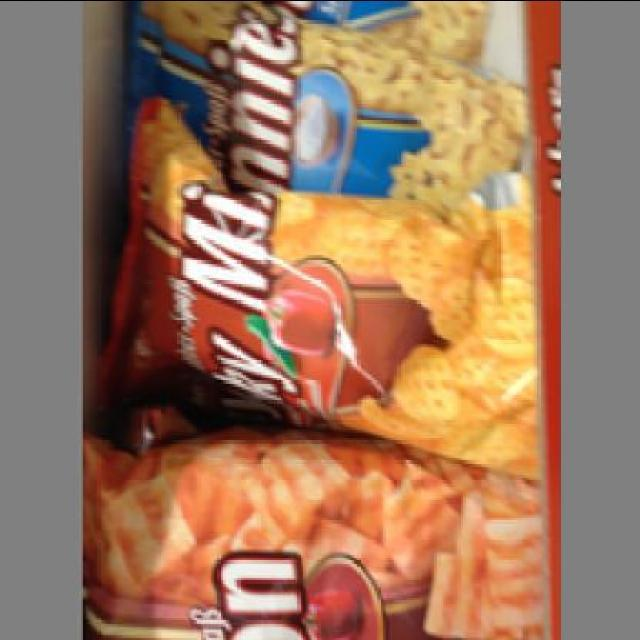Chips: (97, 168, 529, 464), (81, 440, 542, 638), (126, 3, 520, 203)
